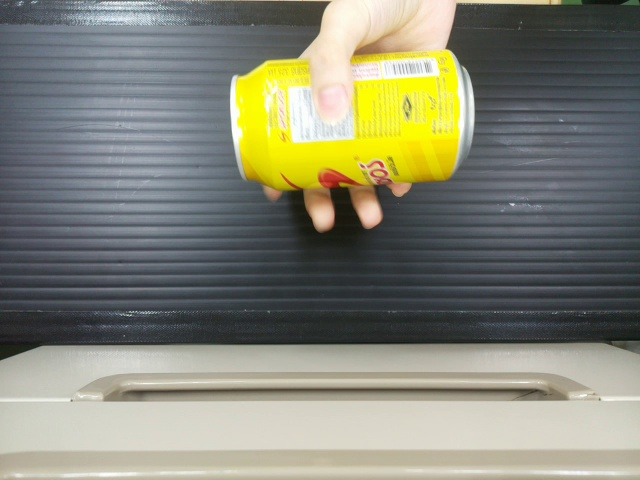can: (230, 51, 473, 181)
